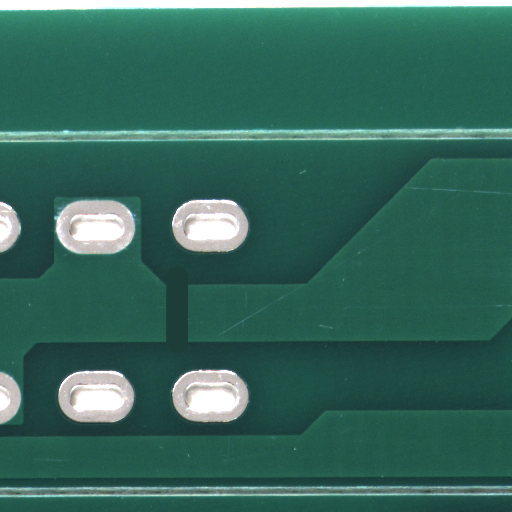Open_circuit: (178, 313, 206, 378)
